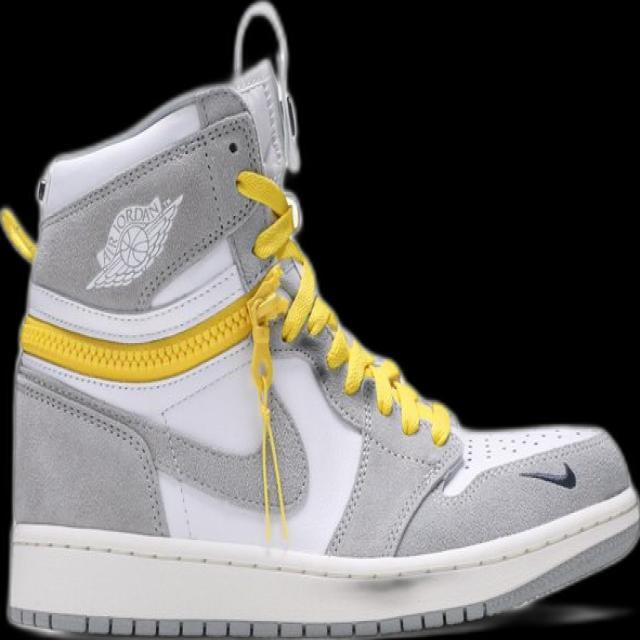J1_InsoleChar: (0, 0, 639, 639)
J1_ShoeLogo: (84, 190, 185, 292), (518, 460, 577, 490)
J1_StitchPattern: (14, 167, 458, 539), (233, 168, 454, 448), (7, 495, 639, 588), (12, 367, 170, 536), (42, 109, 261, 226), (6, 602, 490, 639), (441, 421, 604, 498)
